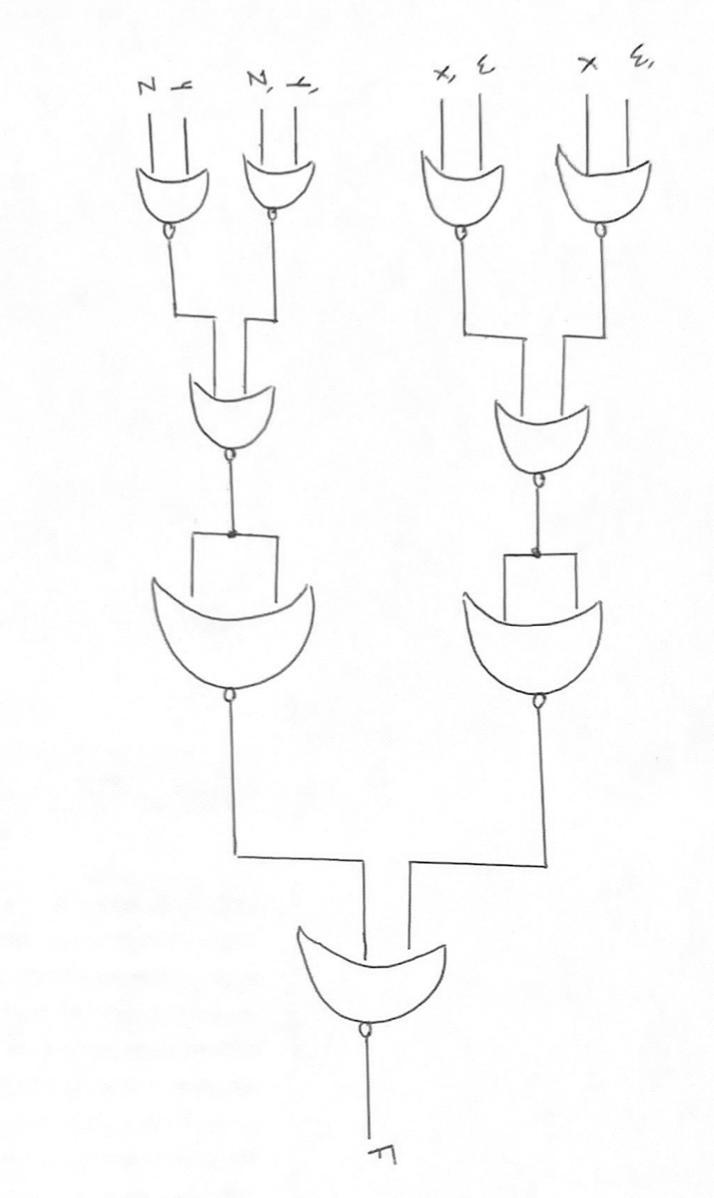NOR: (130, 560, 342, 725), (280, 900, 474, 1064), (448, 575, 631, 716), (480, 383, 622, 497), (170, 350, 289, 480), (545, 135, 669, 249), (412, 140, 517, 251), (233, 140, 334, 234), (117, 158, 217, 247)
